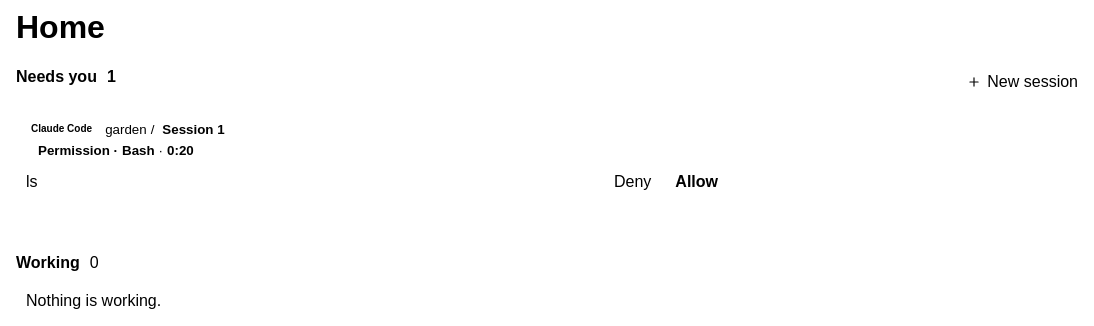
Home › answering a glassbox run’s prompt › says why an answer did not go through, and lets it be sent again
Click the button "Allow" at coordinates (697, 182), box [667,170,726,194]
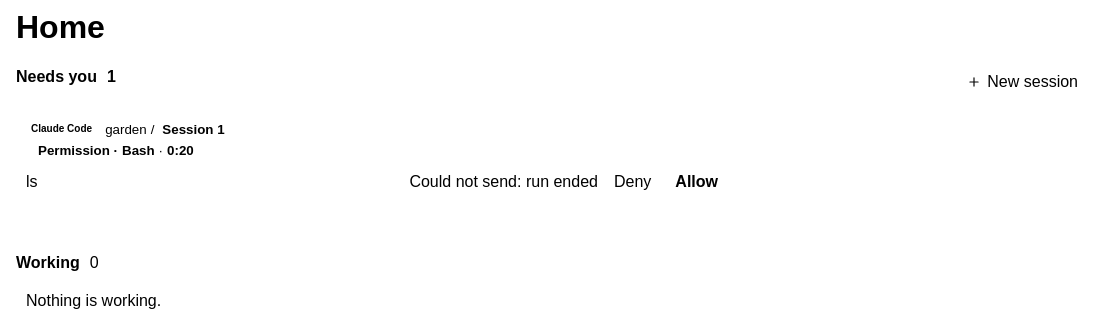
Expected: the message reads "Could not send: run ended", [409,173,598,190]
